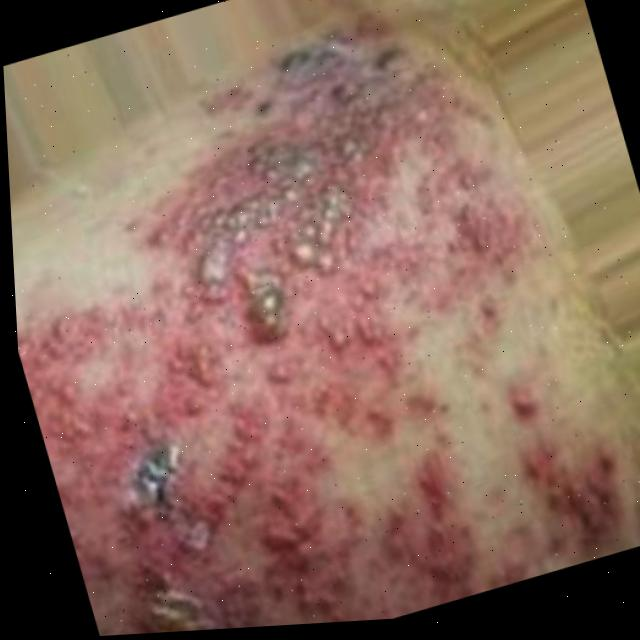Shingles: (1, 0, 640, 640)
